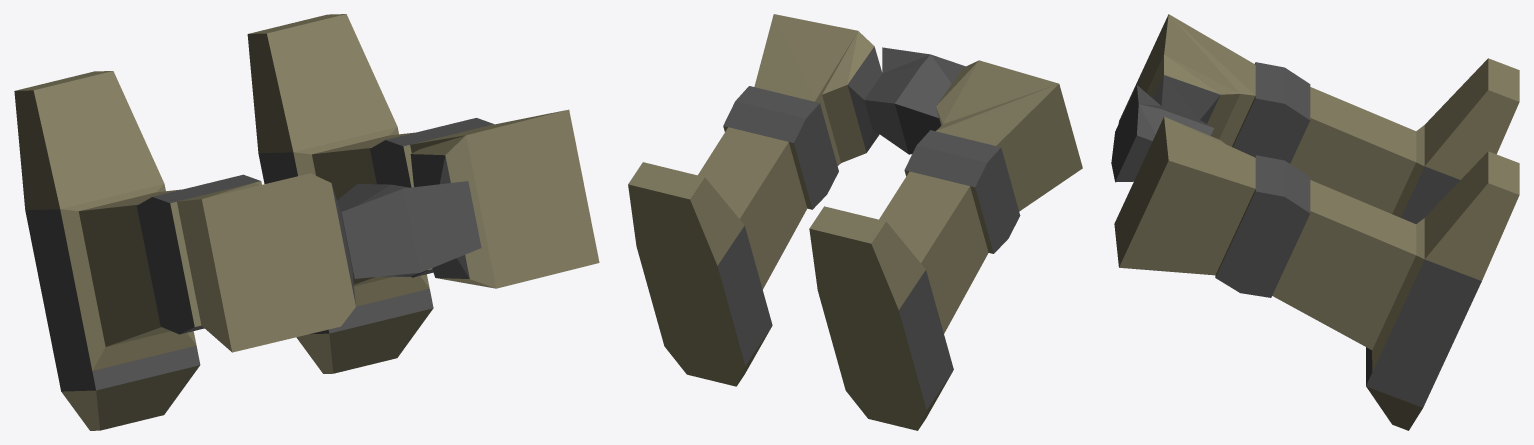
Rendered from legs3-2.obj.
The picture shows the model from 3 angles, left to right: view 1: azimuth 30°, elevation 25°; view 2: azimuth 150°, elevation 25°; view 3: azimuth 270°, elevation 25°; orthographic projection. The views are drawn at different scales.
Visible parts, largest first — view 1: MechLegs3; view 2: MechLegs3; view 3: MechLegs3.
Part boxes in pixels (x1,y1,x2,y2): MechLegs3: [14, 14, 599, 430]; MechLegs3: [628, 14, 1082, 430]; MechLegs3: [1111, 14, 1519, 430].
Bounding box in the file's own units: 5.53 × 5.03 × 6.51.
1 material, 1 textured.
